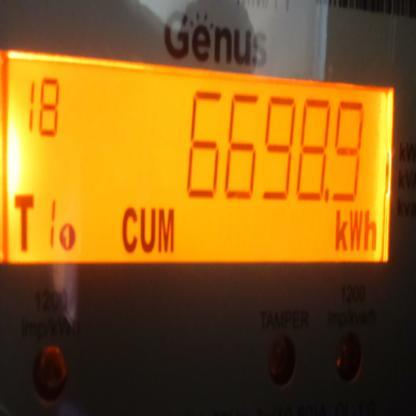.: (332, 208, 381, 255)
0: (323, 189, 333, 204)
7: (179, 88, 222, 201), (226, 92, 257, 205)
9: (291, 90, 332, 209)
:: (328, 99, 369, 205), (259, 94, 297, 200)
